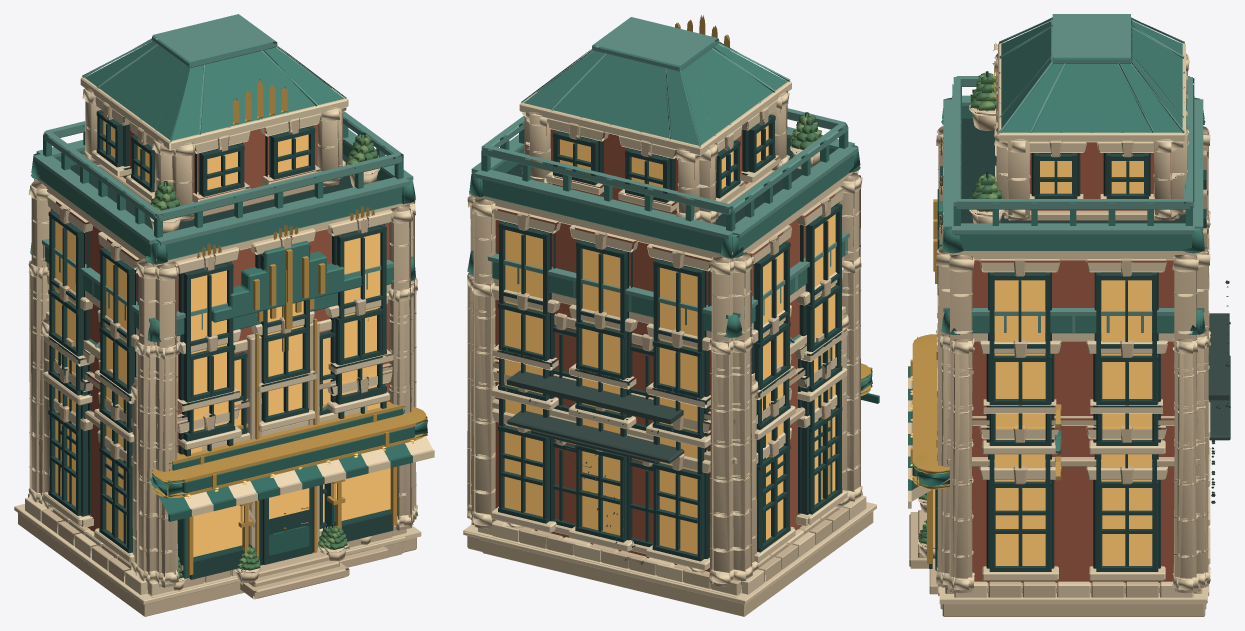
The model's file is expansion.glb.
3 views of the same model, side by side, from view 1: azimuth 30°, elevation 25°; view 2: azimuth 150°, elevation 25°; view 3: azimuth 270°, elevation 25° (orthographic). The views are drawn at different scales.
Visible parts, largest first — view 1: expansion_villa_3_geometry, expansion_hotel_2_geometry, expansion_shop_2_geometry, expansion_junction_hub_geometry, expansion_tower_2_geometry; view 2: expansion_villa_3_geometry, expansion_shop_2_geometry, expansion_hotel_2_geometry, expansion_junction_hub_geometry, expansion_tower_2_geometry; view 3: expansion_villa_3_geometry, expansion_shop_2_geometry, expansion_hotel_2_geometry, expansion_junction_hub_geometry.
Boxes of the visible parts, x1,y1,x2,y2 form: expansion_villa_3_geometry: (28,14,421,599); expansion_hotel_2_geometry: (28,239,427,598); expansion_shop_2_geometry: (29,240,434,589); expansion_junction_hub_geometry: (14,311,405,616); expansion_tower_2_geometry: (194,292,374,559); expansion_villa_3_geometry: (463,15,862,597); expansion_shop_2_geometry: (463,227,879,595); expansion_hotel_2_geometry: (466,230,872,586); expansion_junction_hub_geometry: (478,306,876,616); expansion_tower_2_geometry: (505,313,704,572); expansion_villa_3_geometry: (910,14,1229,616); expansion_shop_2_geometry: (908,211,1230,616); expansion_hotel_2_geometry: (909,188,1228,616); expansion_junction_hub_geometry: (929,404,1209,609).
Bounding box in the file's own units: 1.04 × 1.69 × 0.9616.
